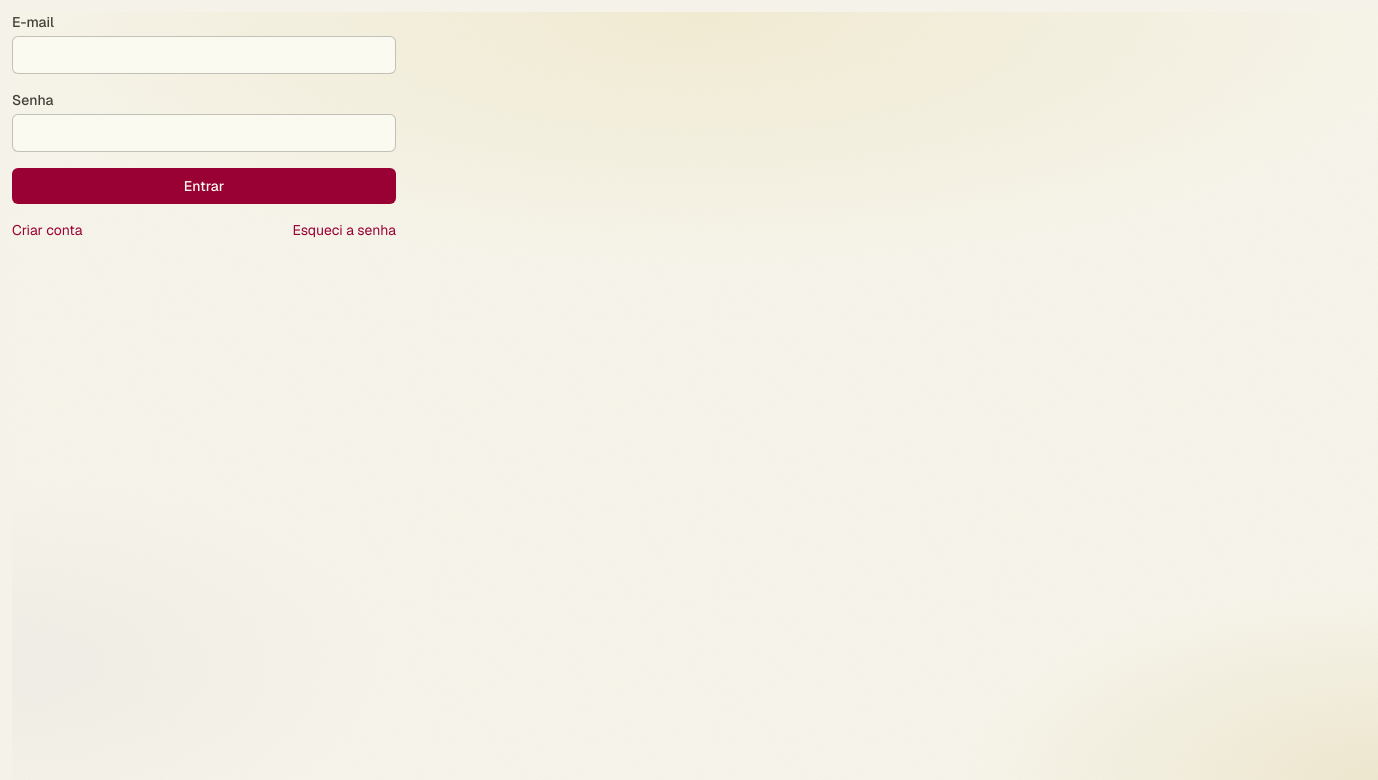
quando as credenciais são recusadas › deve exibir mensagem genérica para credencial inválida
Type "aria@teste.dev" into the field labelled "E-mail" at (204, 55), box [12, 36, 396, 74]
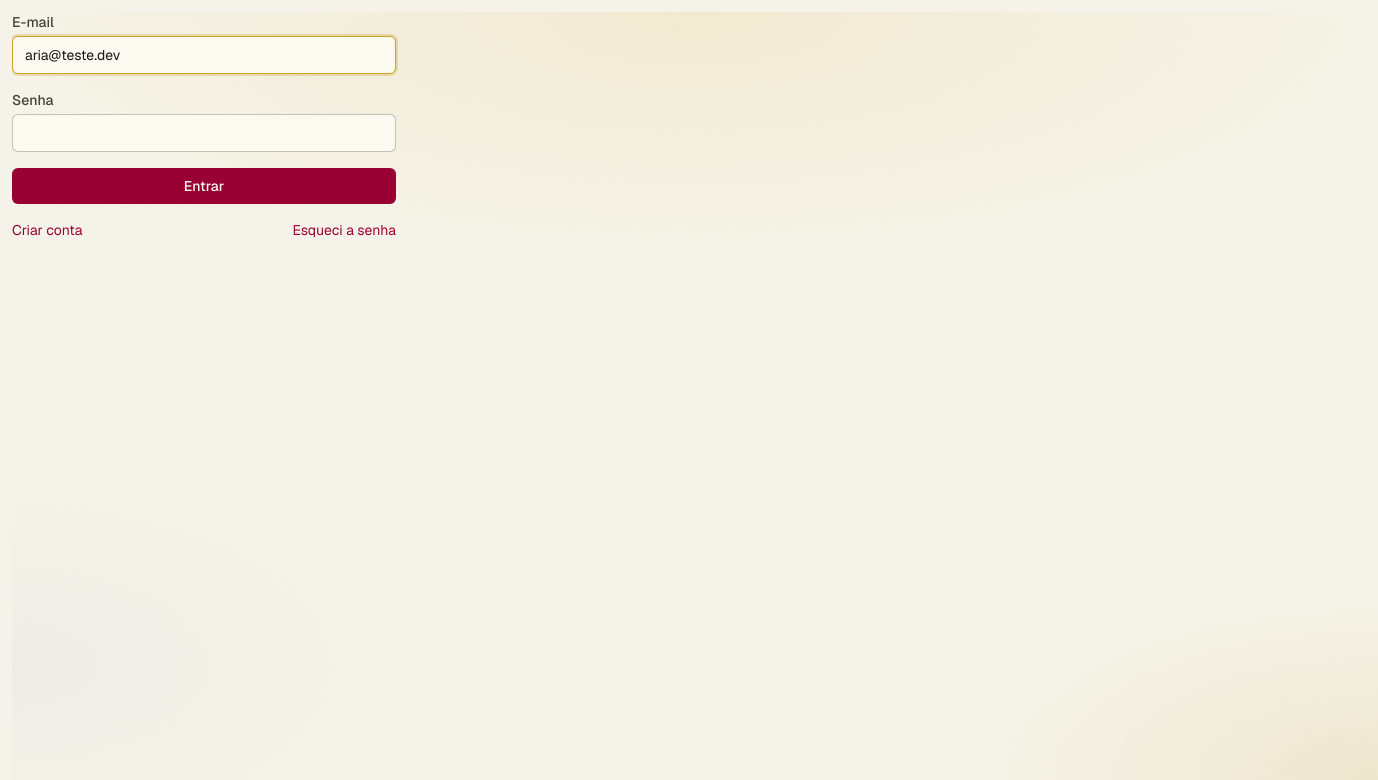
Type "senha-segura" into the password field labelled "Senha" at (204, 133), box [12, 114, 396, 152]
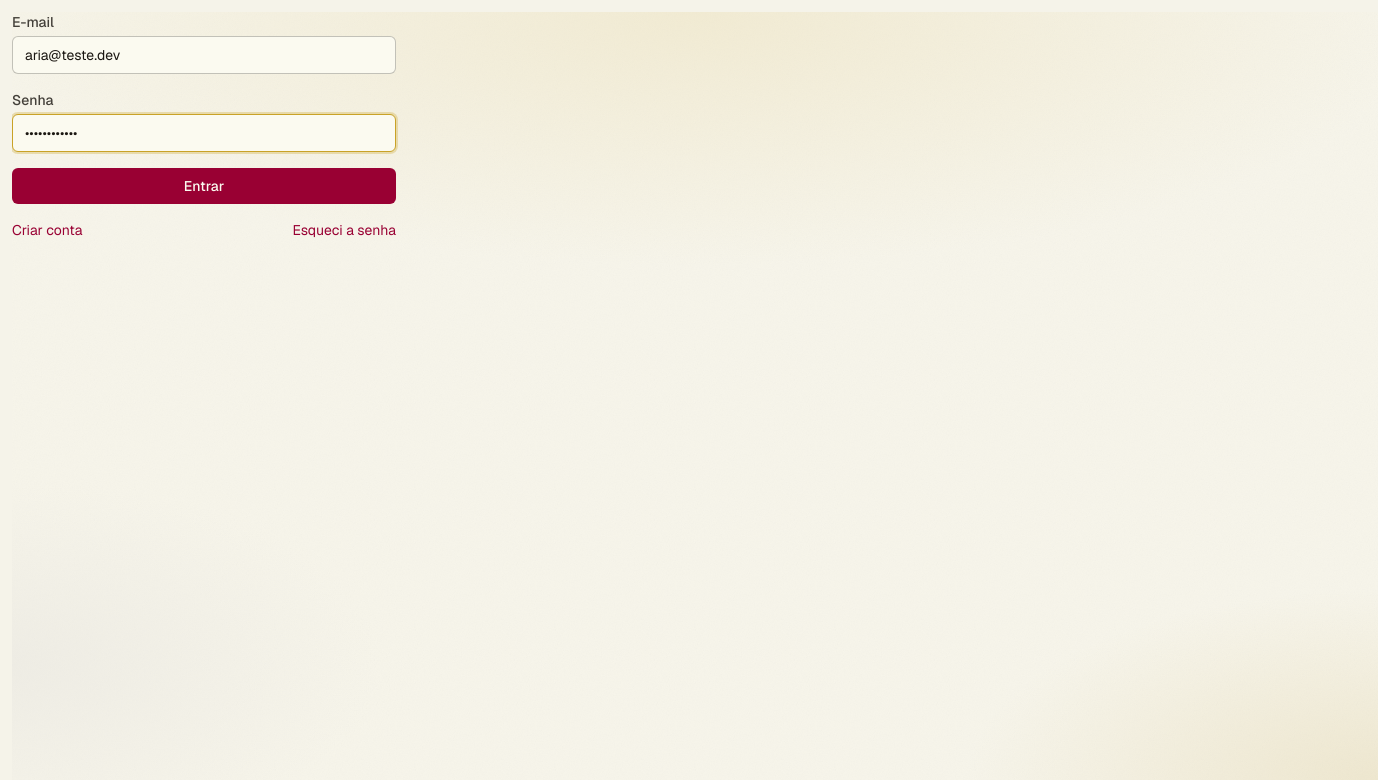
Click the button "Entrar" at (204, 186), box [12, 168, 396, 204]
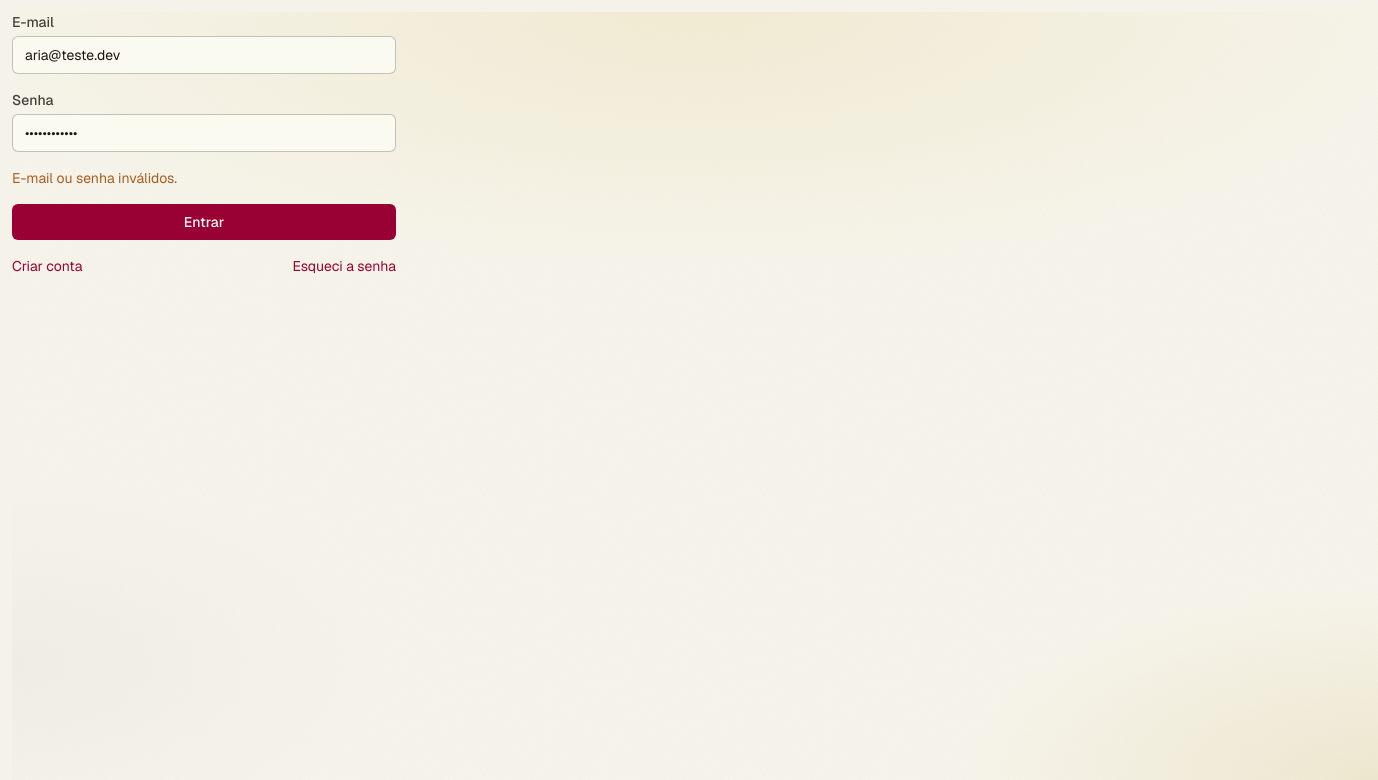
Expected: the message reads "E-mail ou senha inválidos.", [12, 169, 177, 187]
